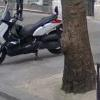Motorcycle: (4, 9, 62, 62)
